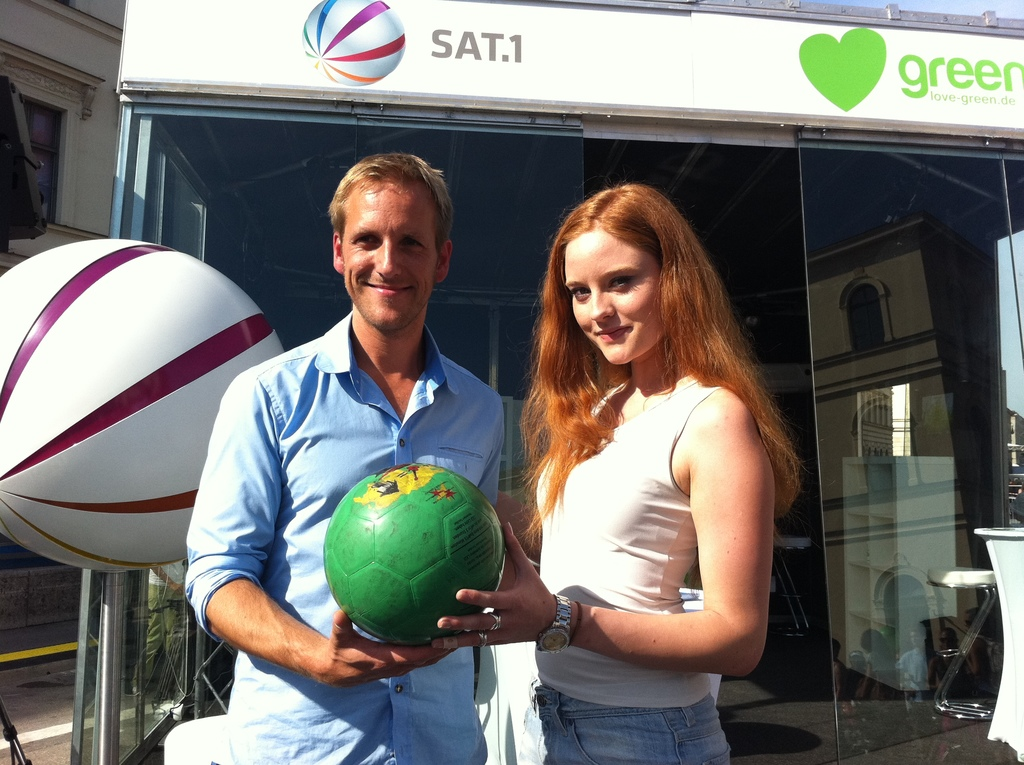Ball: (0, 236, 282, 575), (324, 459, 504, 647), (298, 0, 412, 87)
